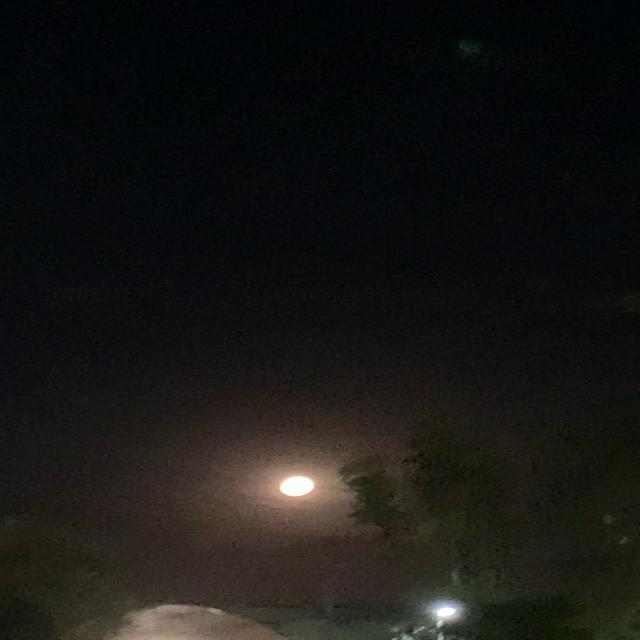moon: (262, 476, 315, 502)
